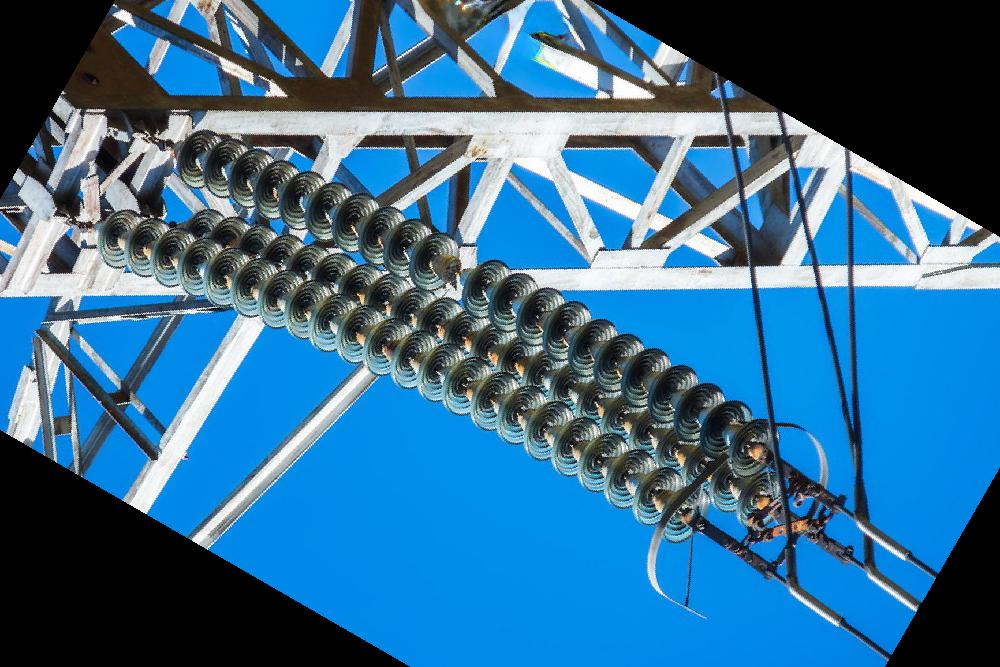insulator: (91, 202, 755, 547), (169, 126, 781, 485)
insulator_stringdrop: (407, 230, 515, 321)
